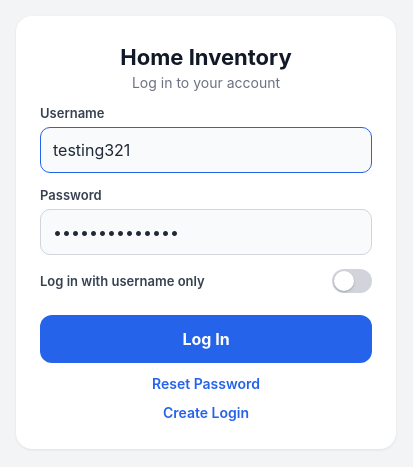
Test case: LoginScreen › disables submit when the switch is on but the username is blank
This screenshot has width=413, height=467.
Click the switch labelled "Log in with username only". click: x=206, y=280
box: left=40, top=268, right=372, bottom=292
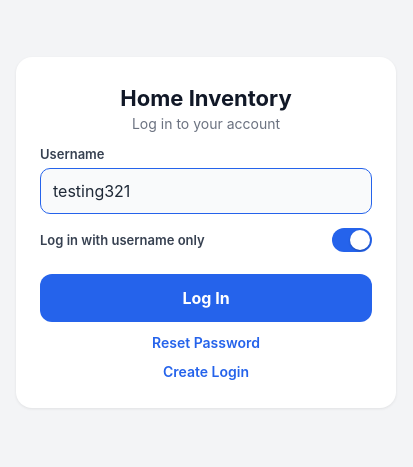
Clear the field with placeholder "Username". click: x=206, y=190
box: left=40, top=168, right=372, bottom=214
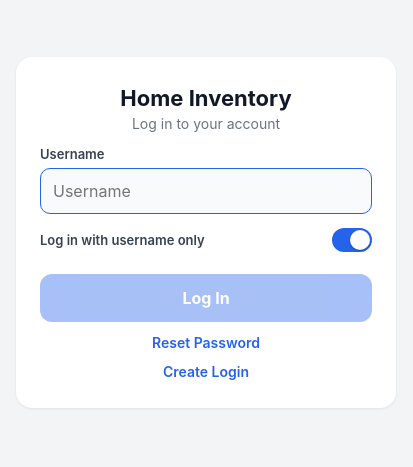
expect the button "Log In" is disabled: met, box left=40, top=274, right=372, bottom=322
